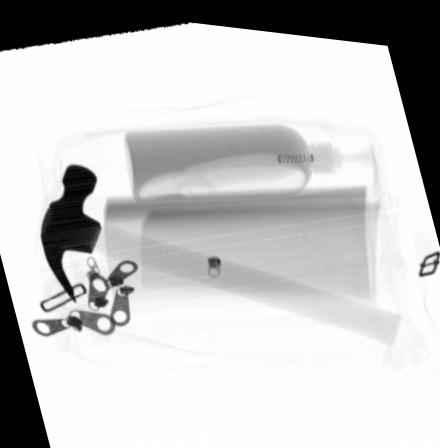Hammer: (40, 163, 403, 337)
